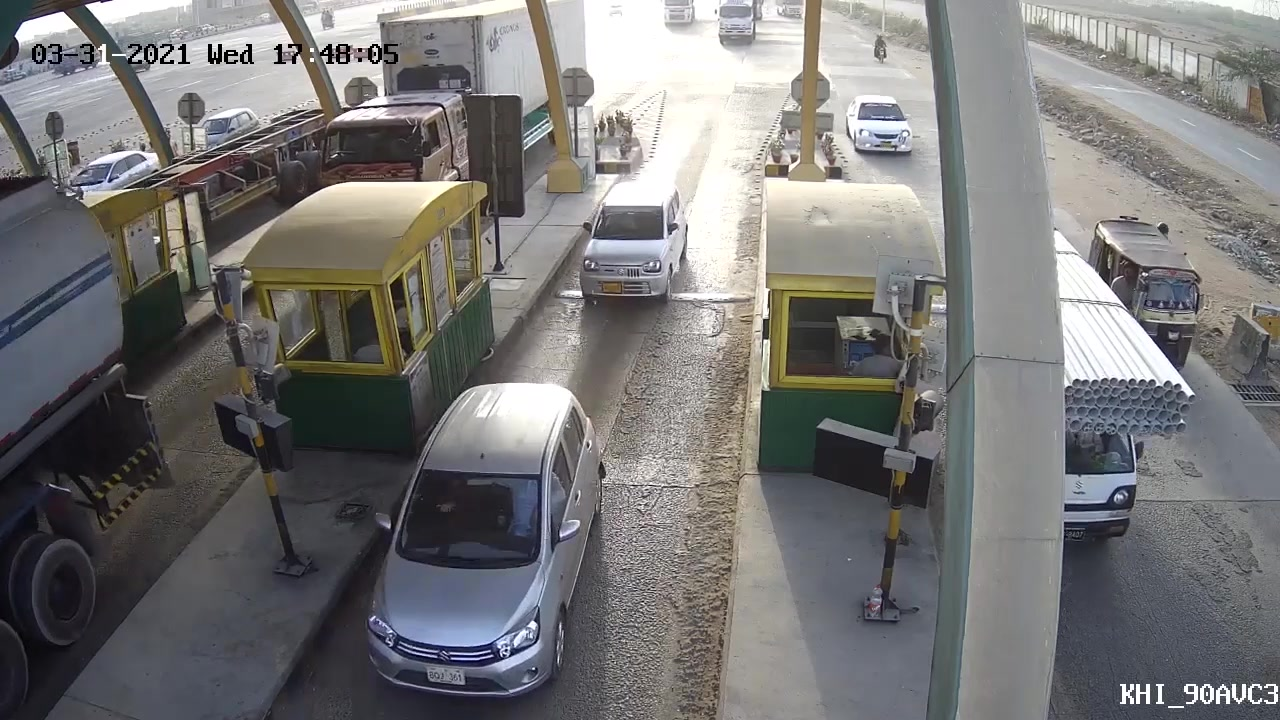F1: (344, 379, 616, 709), (578, 172, 694, 308)
